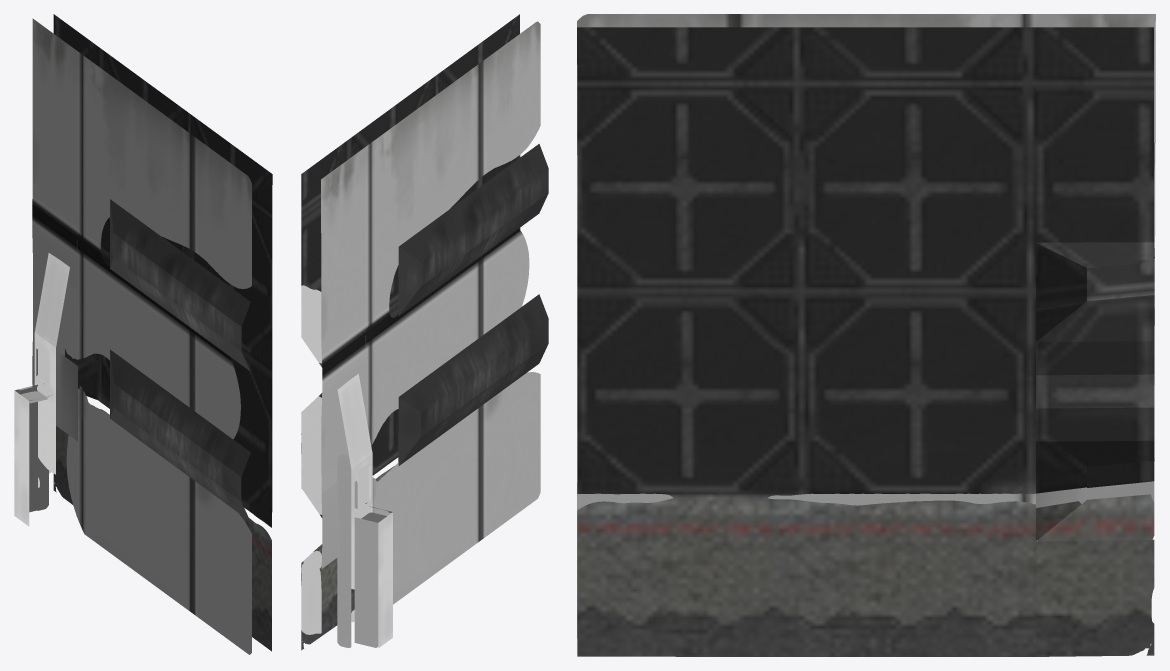
The model's file is window21.obj.
The picture shows the model from 3 angles, left to right: view 1: azimuth 30°, elevation 25°; view 2: azimuth 150°, elevation 25°; view 3: azimuth 270°, elevation 25°; orthographic projection. The views are drawn at different scales.
Visible parts, largest first — view 1: window21; view 2: window21; view 3: window21.
Part boxes in pixels (x1=…): window21: x1=14, y1=14, x2=272, y2=654; window21: x1=301, y1=14, x2=548, y2=650; window21: x1=577, y1=14, x2=1155, y2=656.
Size of the model in its own units: 1.33 by 10.48 by 8.72.
